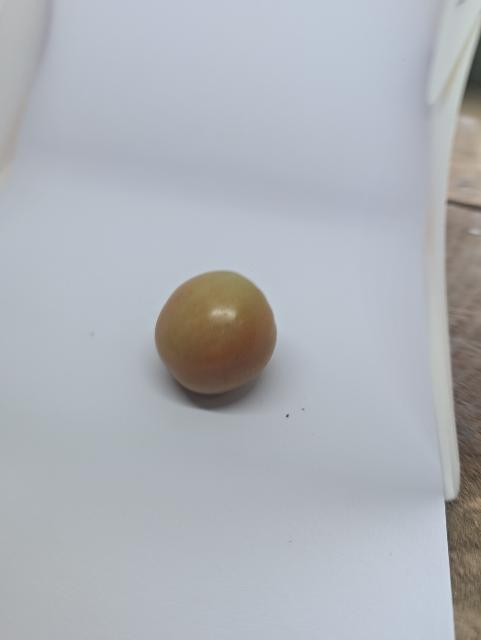turning: (144, 266, 291, 400)
